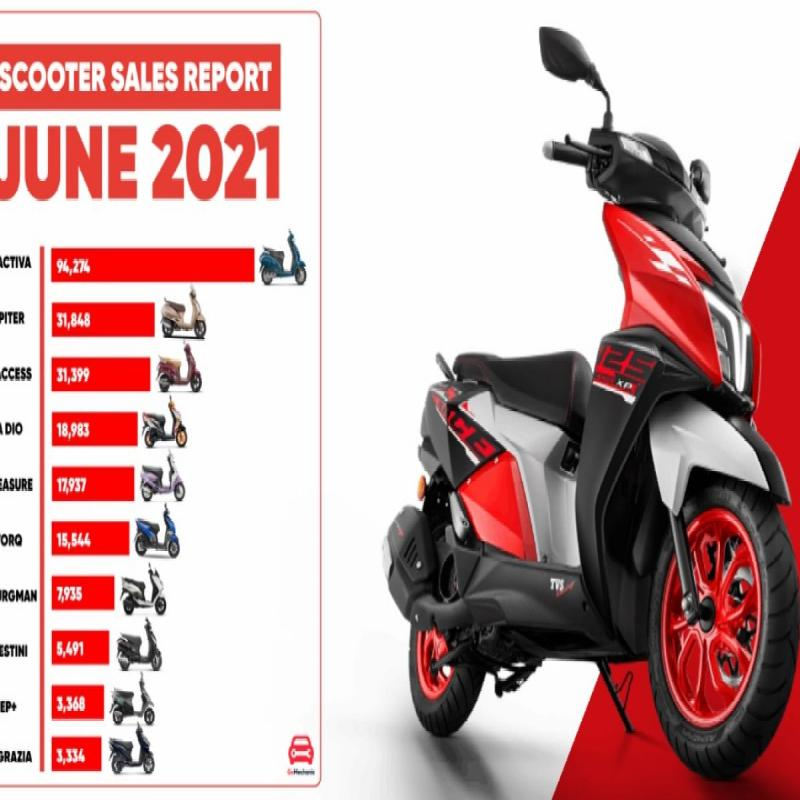bike: (364, 16, 800, 792)
